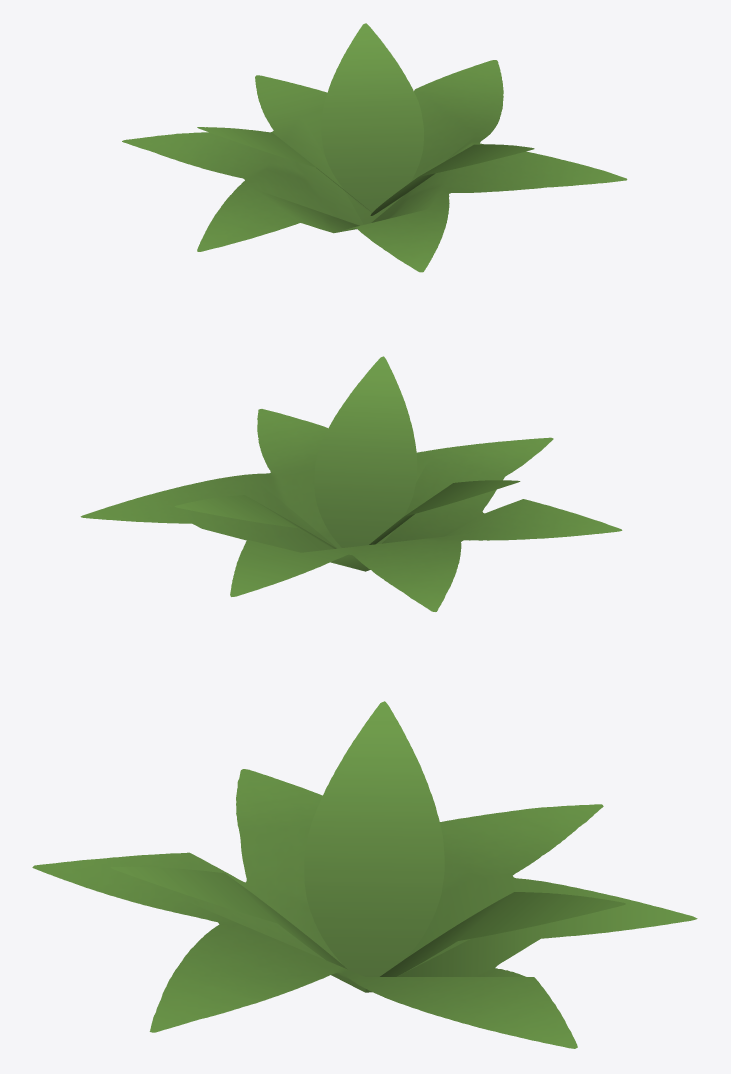
File: Plant_02.fbx
The picture shows the model from 3 angles, top to bottom: view 1: azimuth 30°, elevation 25°; view 2: azimuth 150°, elevation 25°; view 3: azimuth 270°, elevation 25°; orthographic projection. The views are drawn at different scales.
Visible parts, largest first — view 1: Plant_02_LOD0; view 2: Plant_02_LOD0; view 3: Plant_02_LOD0.
Part boxes in pixels (x1=…): Plant_02_LOD0: x1=122, y1=23, x2=627, y2=272; Plant_02_LOD0: x1=80, y1=356, x2=622, y2=611; Plant_02_LOD0: x1=32, y1=701, x2=697, y2=1048.
Size of what is drawn, in the model's own units: 0.1822 by 0.0541 by 0.1822.
